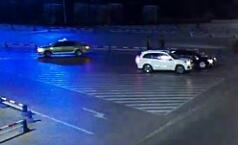car: (136, 48, 193, 74), (34, 37, 92, 59), (167, 46, 218, 70)
